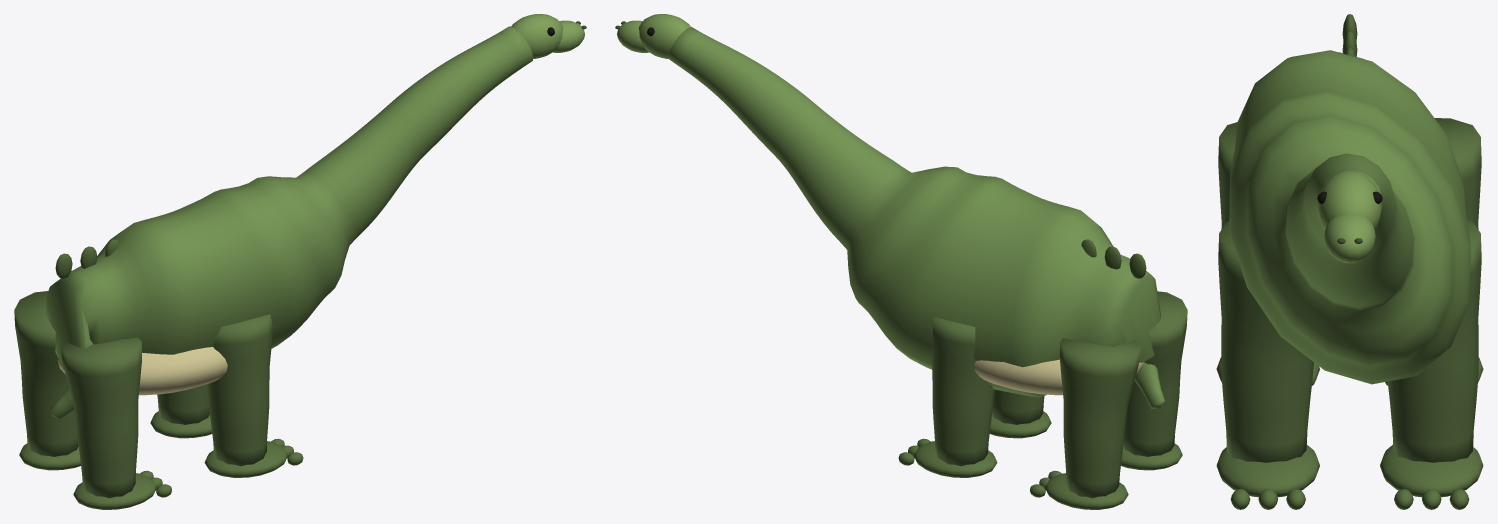
File: original.glb
3 views of the same model, side by side, from view 1: azimuth 30°, elevation 25°; view 2: azimuth 150°, elevation 25°; view 3: azimuth 270°, elevation 25° (orthographic). The views are drawn at different scales.
Parts seen in each view (by area): view 1: Body, Rear left leg, Front left leg, Rear right leg, Belly, Front right leg, Head, Back ridge; view 2: Body, Rear right leg, Front right leg, Rear left leg, Front left leg, Belly, Head, Back ridge; view 3: Body, Front left leg, Front right leg, Head, Rear right leg, Rear left leg, Back ridge.
Boxes of the visible parts, x1,y1,x2,y2 form: Body: [46, 26, 533, 418]; Rear left leg: [60, 337, 171, 509]; Front left leg: [204, 314, 303, 477]; Rear right leg: [14, 291, 80, 470]; Belly: [58, 347, 227, 395]; Front right leg: [150, 384, 212, 438]; Head: [511, 14, 584, 58]; Back ridge: [55, 239, 119, 278]; Body: [669, 26, 1164, 408]; Rear right leg: [1030, 338, 1141, 509]; Front right leg: [898, 317, 997, 477]; Rear left leg: [1121, 291, 1187, 470]; Front left leg: [989, 389, 1051, 438]; Belly: [974, 359, 1143, 395]; Head: [617, 14, 690, 58]; Back ridge: [1081, 239, 1146, 278]; Body: [1229, 50, 1470, 384]; Front left leg: [1216, 221, 1319, 509]; Front right leg: [1380, 220, 1483, 509]; Head: [1318, 170, 1381, 263]; Rear right leg: [1385, 118, 1483, 385]; Rear left leg: [1216, 122, 1319, 385]; Back ridge: [1342, 14, 1357, 56].
Bounding box in the file's own units: 15.25 × 9.62 × 4.33.
